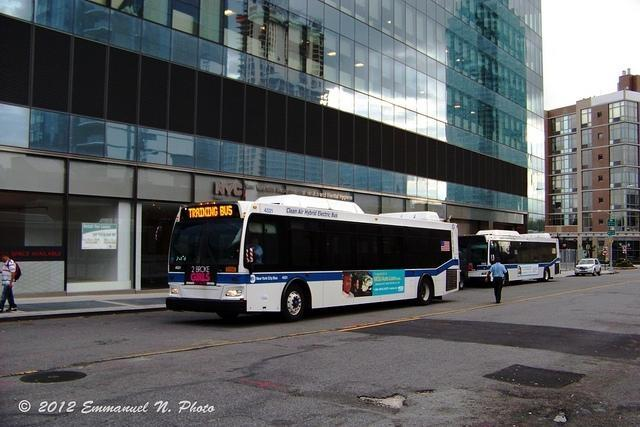bus: (162, 194, 464, 320), (464, 231, 562, 282)
car: (575, 258, 602, 276)
